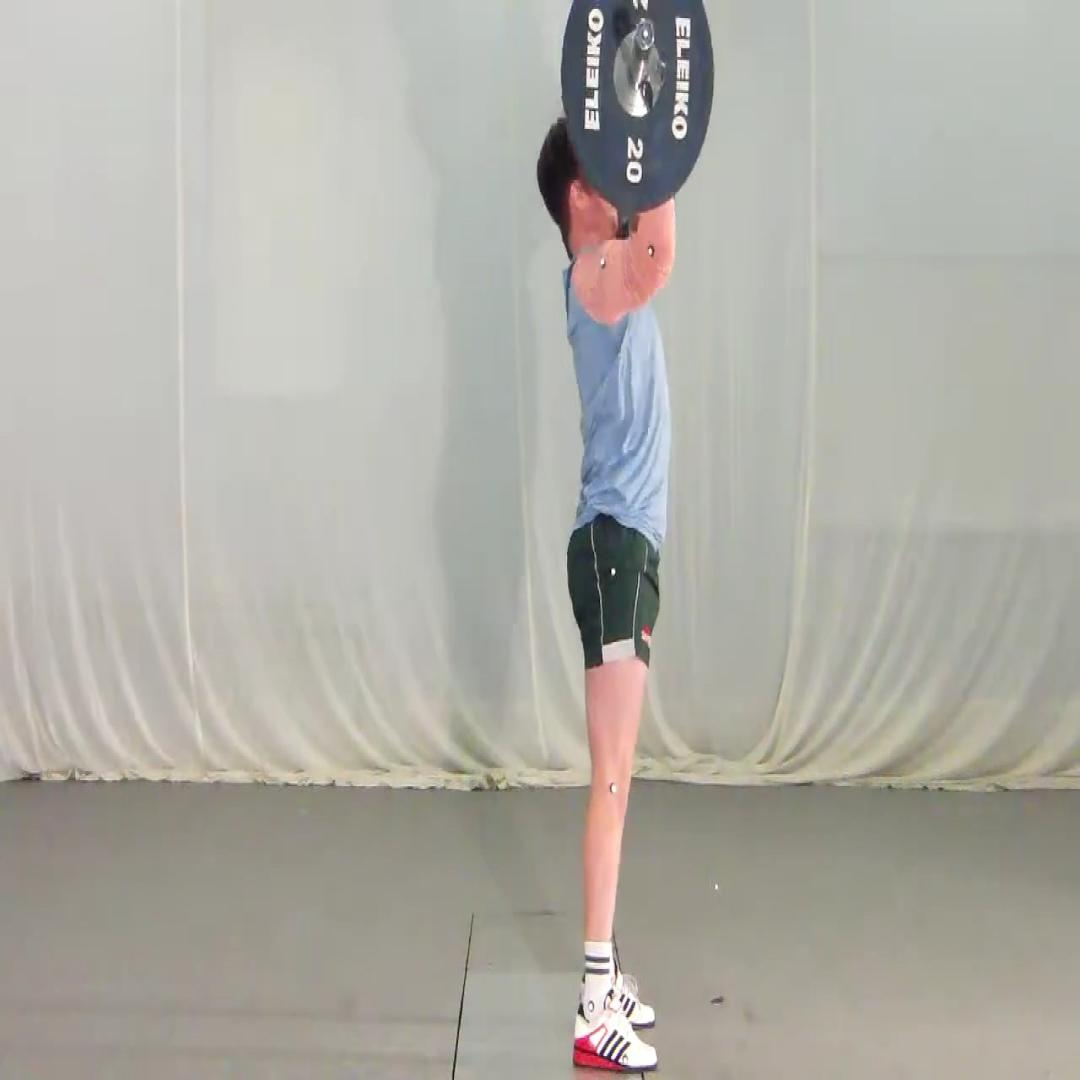Bar: (635, 17, 655, 51)
Barbell: (560, 0, 714, 212)
